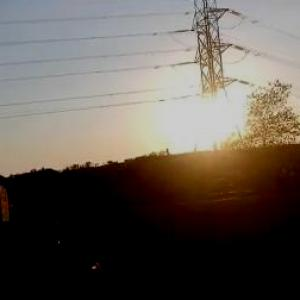follow: (12, 195, 107, 299)
